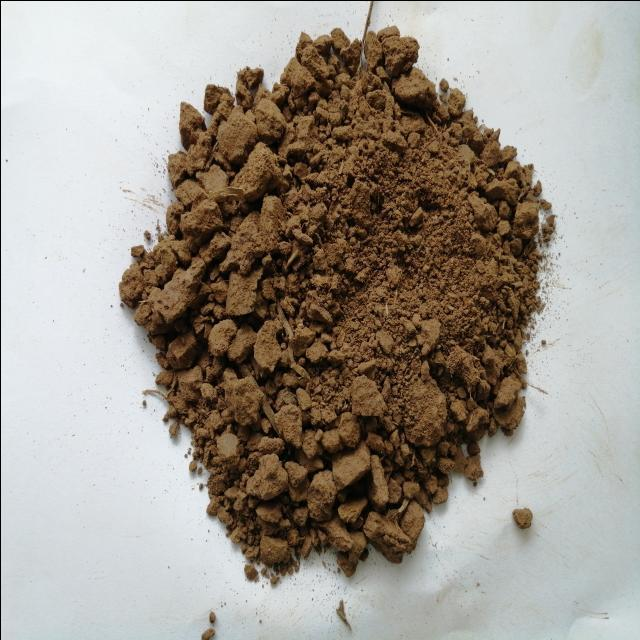soil: (196, 94, 484, 468)
